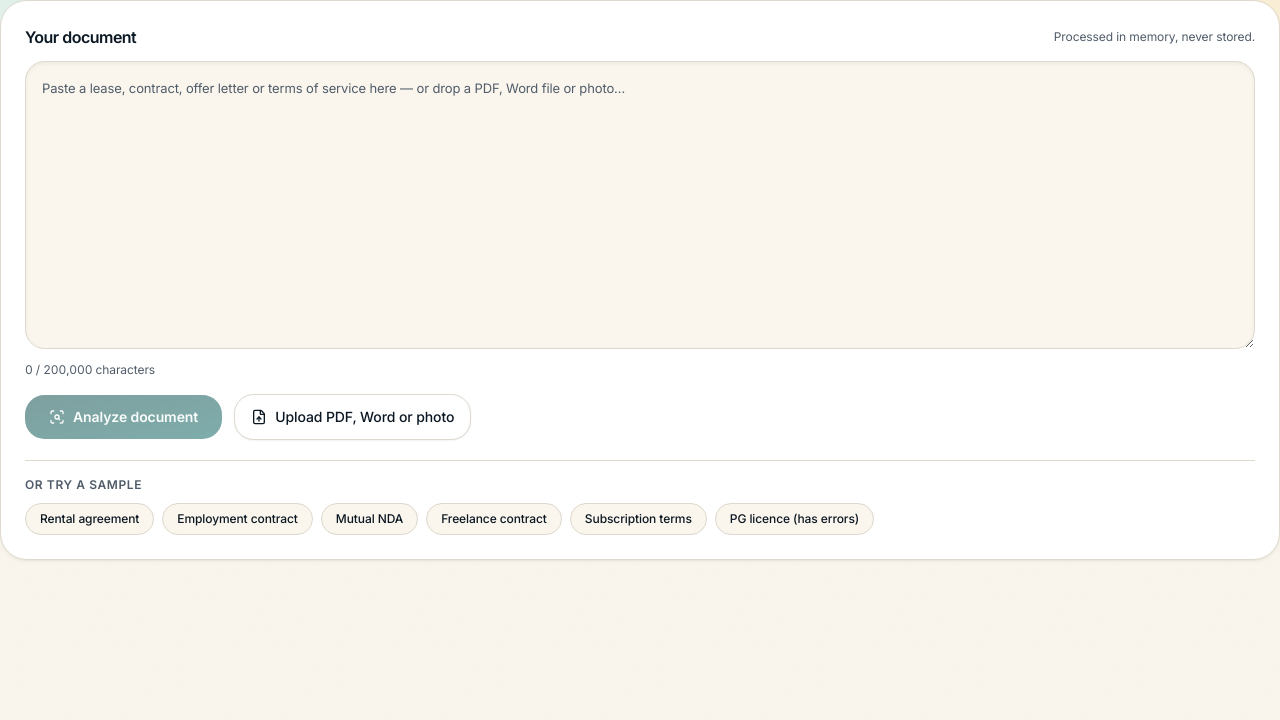
Test: Analyzer › clears the document and puts the cursor back in the box
In the text box named "Document text": {"x": 640, "y": 205} [25,61,1255,348], type "Some text"
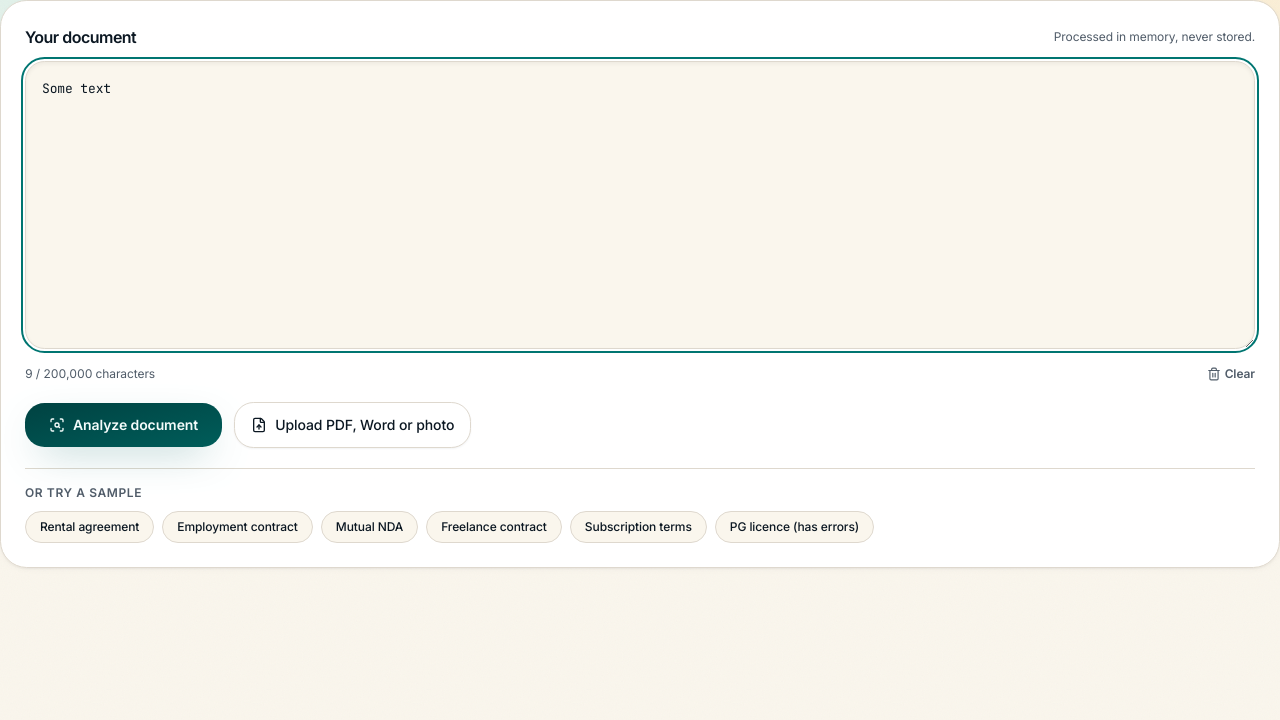
Click the button "Clear": {"x": 1231, "y": 374} [1207,362,1255,386]
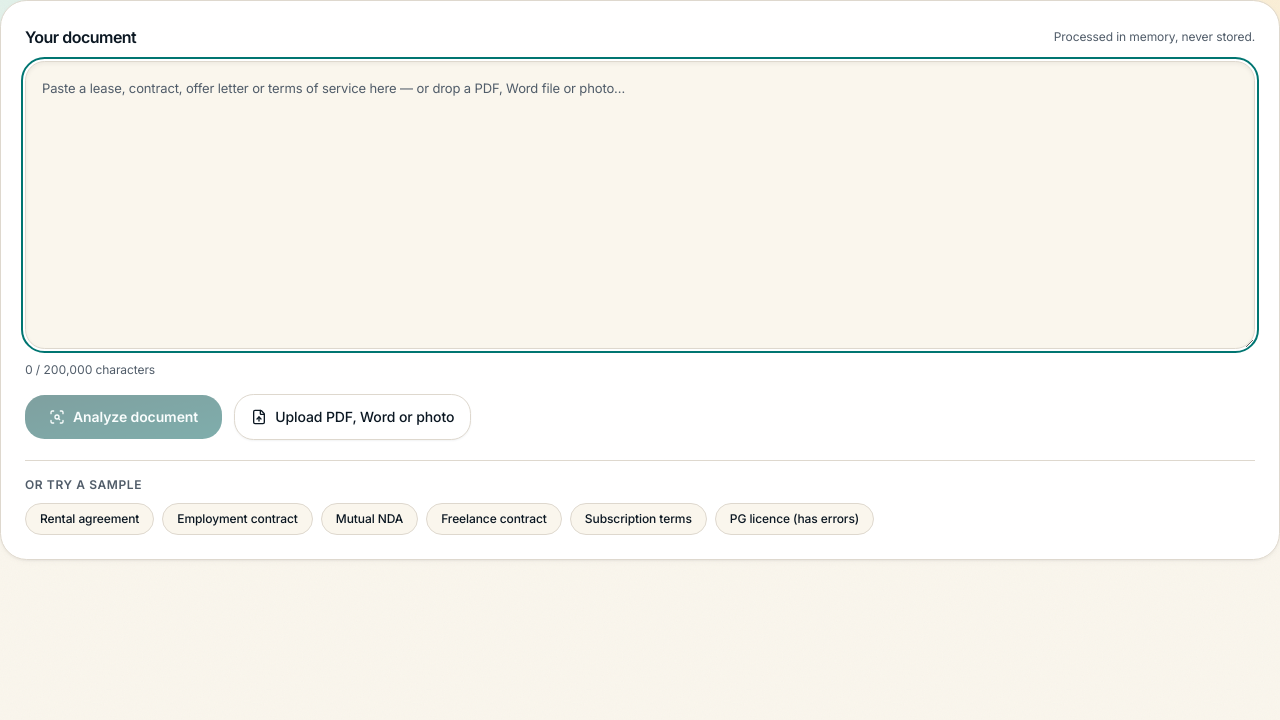
Now the text box named "Document text" is empty, box [25,61,1255,348]
